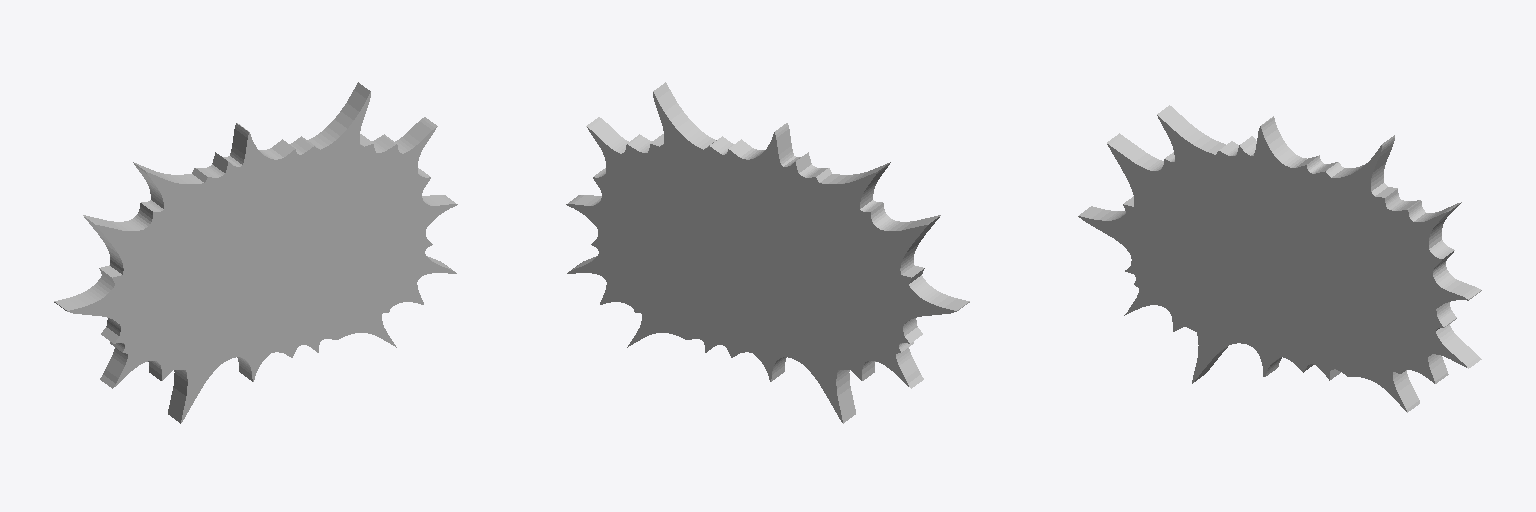
File: ActionBallon.obj
3 views of the same model, side by side, from view 1: azimuth 30°, elevation 25°; view 2: azimuth 150°, elevation 25°; view 3: azimuth 330°, elevation 25° (orthographic).
Parts seen in each view (by area): view 1: Layer; view 2: Layer; view 3: Layer.
Boxes of the visible parts, <box> form: Layer: <box>54,82,457,423</box>; Layer: <box>566,82,969,423</box>; Layer: <box>1078,105,1481,412</box>.
Size of the model in its own units: 6.56 by 4.58 by 0.382.